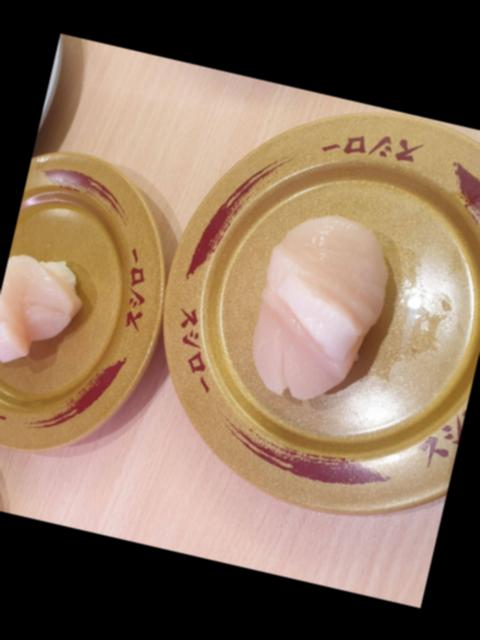jangold: (151, 76, 480, 571), (0, 149, 178, 470)
janwhite: (10, 32, 92, 258)
